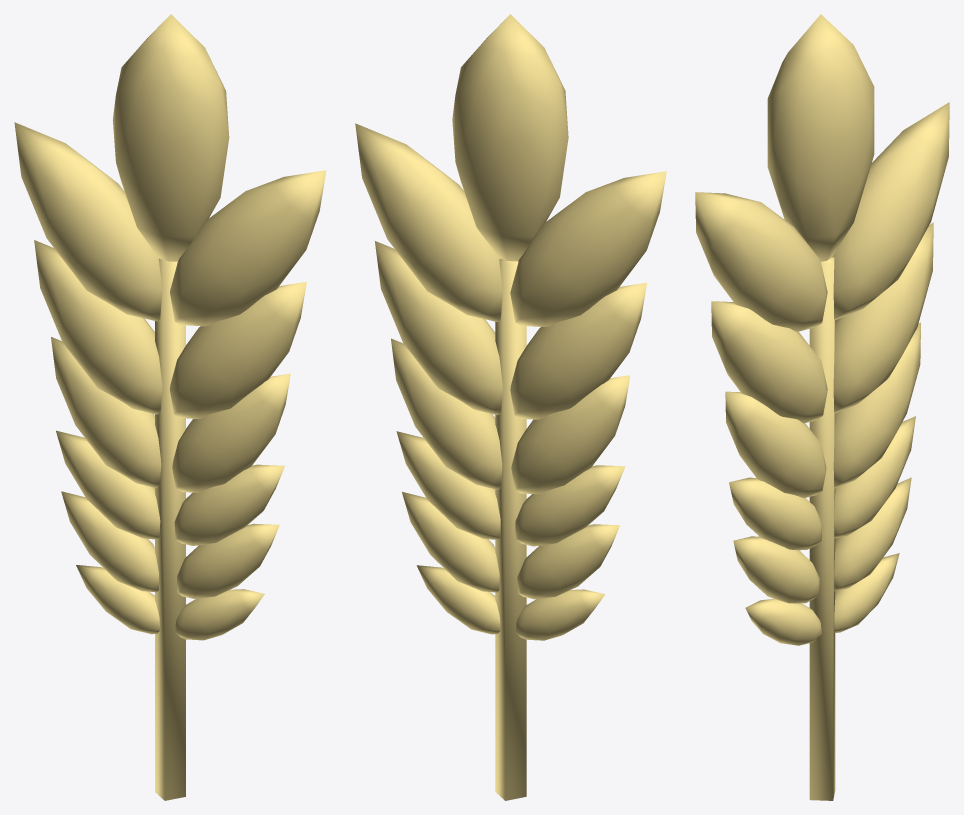
Rendered from 4siom7-sFLN.glb.
3 views of the same model, side by side, from view 1: azimuth 30°, elevation 25°; view 2: azimuth 210°, elevation 25°; view 3: azimuth 270°, elevation 25° (orthographic).
Visible parts, largest first — view 1: Null.1; view 2: Null.1; view 3: Null.1.
Part boxes in pixels (box(x1,y1,x2,y2)): Null.1: box(14, 14, 326, 800); Null.1: box(355, 14, 666, 800); Null.1: box(695, 14, 949, 800).
Size of the model in its own units: 0.2526 by 1 by 0.2953.
